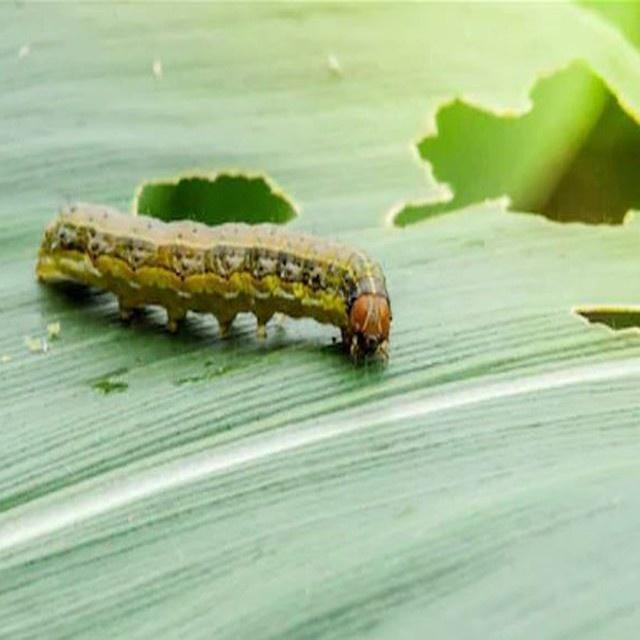gusano_cogollero: (36, 199, 397, 371)
